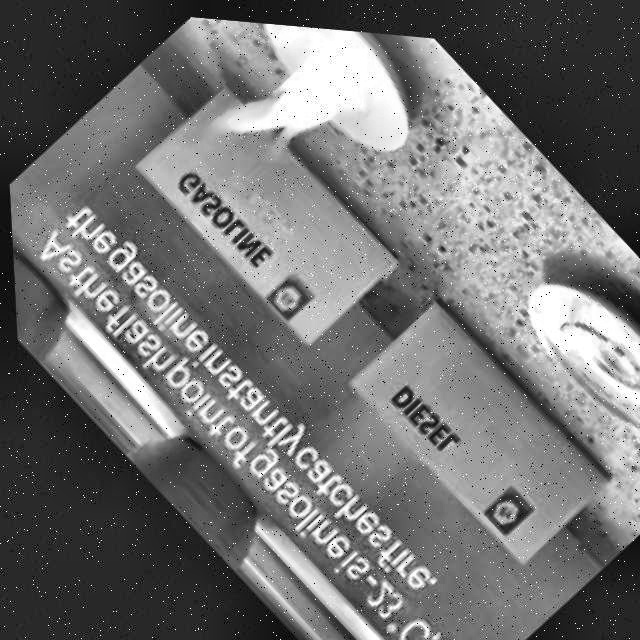Fire: (179, 13, 401, 209)
